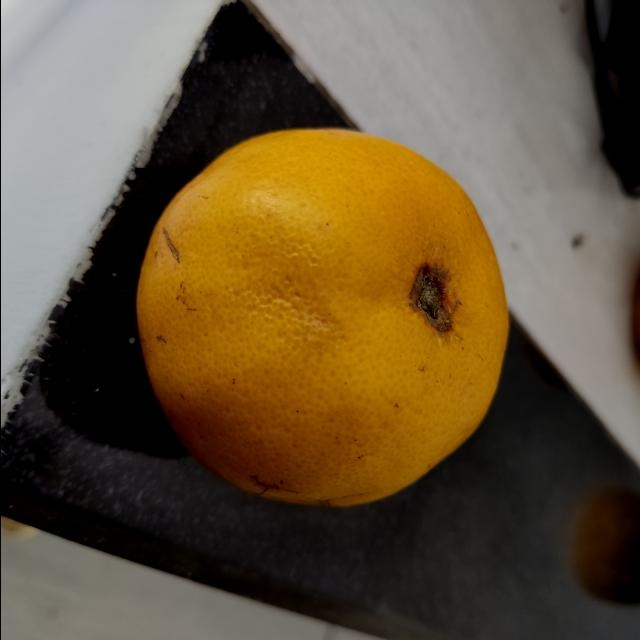agrume: (133, 125, 511, 513)
